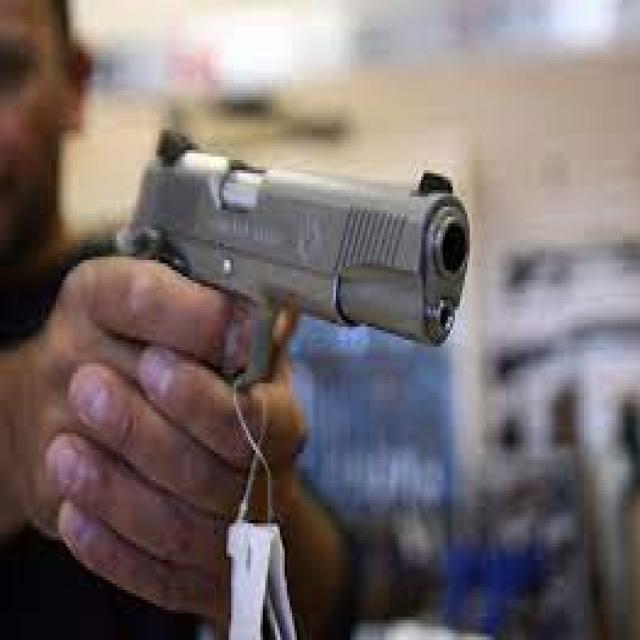weapons: (88, 96, 476, 550)
